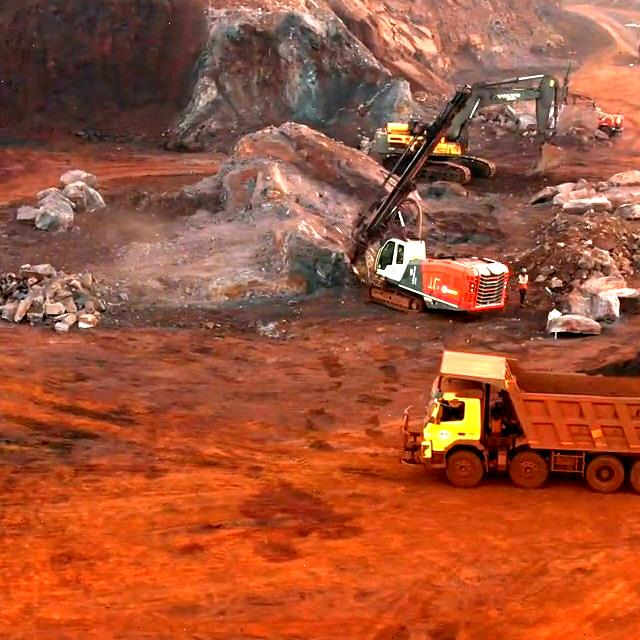Blast rig: (371, 247, 509, 313)
Dumper truck: (427, 359, 640, 486)
Excavator: (366, 114, 498, 182)
person: (518, 268, 530, 308)
